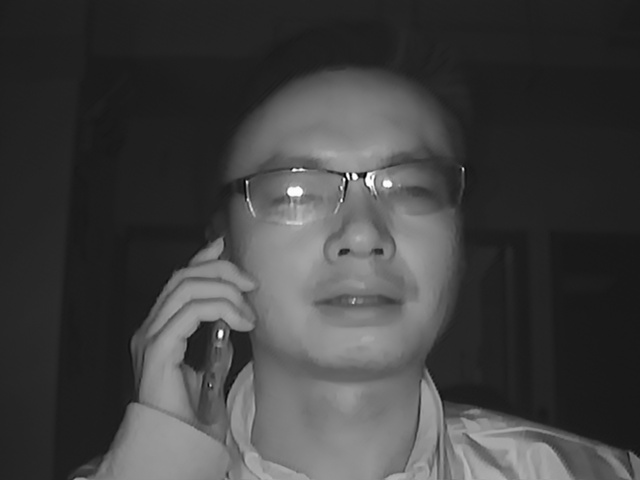hand: (124, 238, 257, 419)
